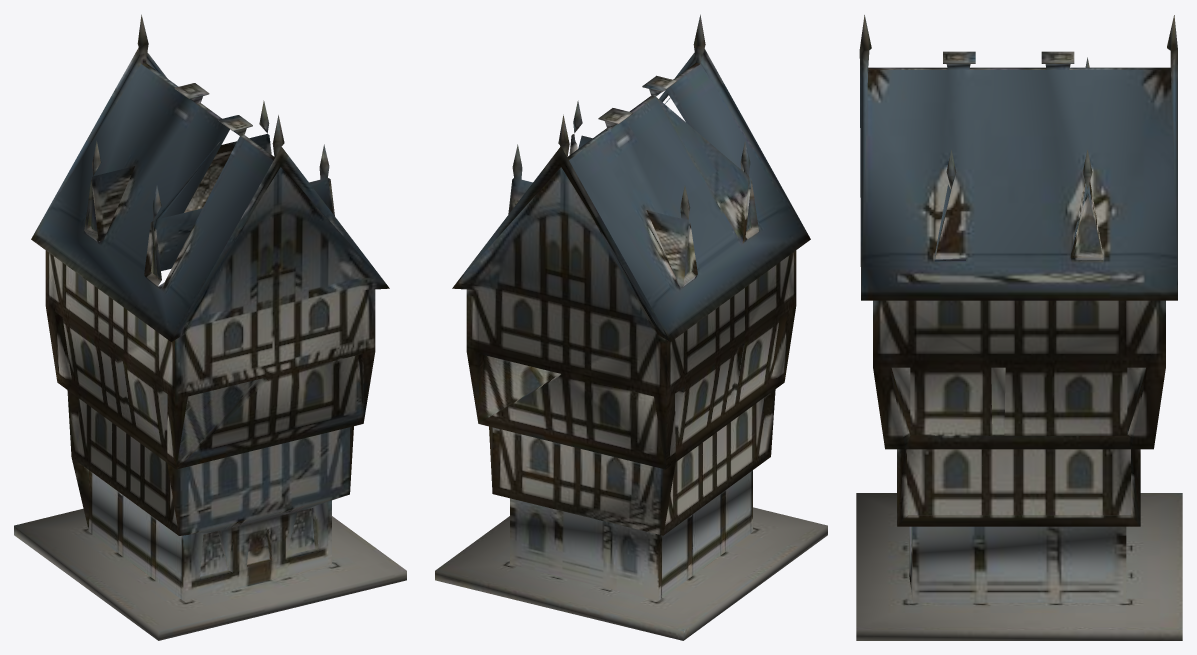
The model's file is house-2.glb.
The picture shows the model from 3 angles, left to right: view 1: azimuth 30°, elevation 25°; view 2: azimuth 150°, elevation 25°; view 3: azimuth 270°, elevation 25°; orthographic projection. The views are drawn at different scales.
Parts seen in each view (by area): view 1: tripo_node_f9482811-b2a2-429b-84ca-e7446; view 2: tripo_node_f9482811-b2a2-429b-84ca-e7446; view 3: tripo_node_f9482811-b2a2-429b-84ca-e7446.
Boxes of the visible parts, bbox=[...] form: tripo_node_f9482811-b2a2-429b-84ca-e7446: bbox=[14, 14, 406, 640]; tripo_node_f9482811-b2a2-429b-84ca-e7446: bbox=[435, 14, 827, 640]; tripo_node_f9482811-b2a2-429b-84ca-e7446: bbox=[856, 15, 1182, 640].
Size of the model in its own units: 11.05 by 21 by 11.14.
1 material, 1 textured.
